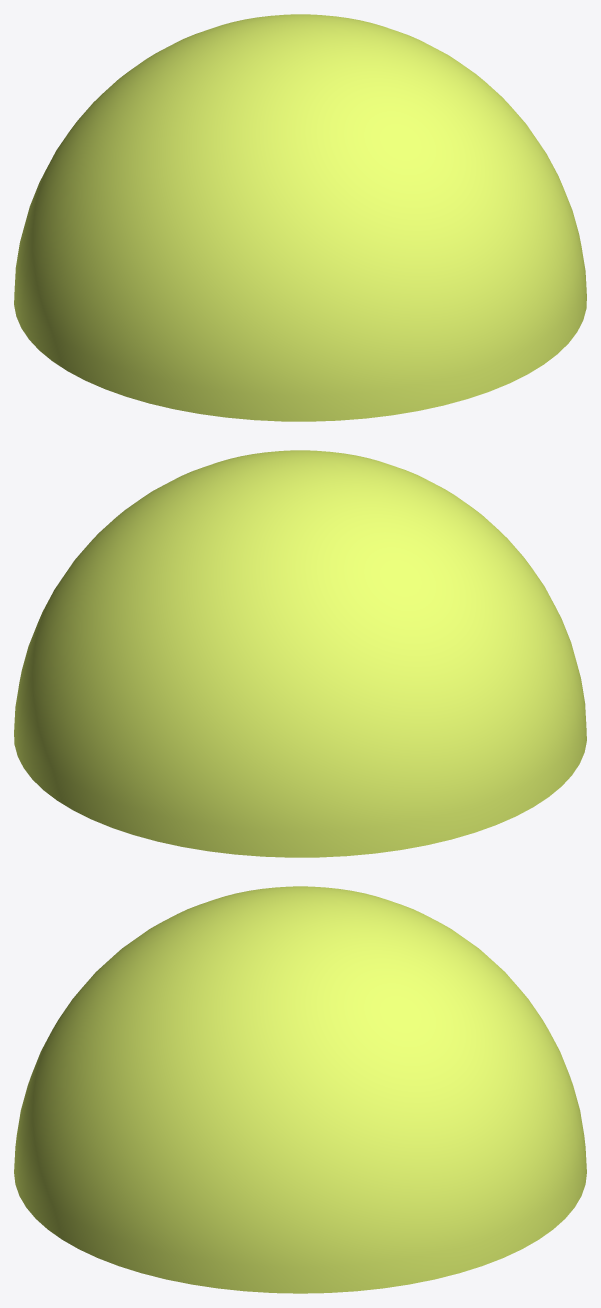
The model's file is Atlas_BigNode_Mesh.fbx.
3 views of the same model, one above another, from view 1: azimuth 30°, elevation 25°; view 2: azimuth 150°, elevation 25°; view 3: azimuth 270°, elevation 25° (orthographic).
Visible parts, largest first — view 1: Sphere; view 2: Sphere; view 3: Sphere.
Part boxes in pixels (box(x1,y1,x2,y2)): Sphere: box(14, 14, 586, 421); Sphere: box(14, 450, 586, 857); Sphere: box(14, 886, 586, 1293).
Bounding box in the file's own units: 200 × 100 × 200.
